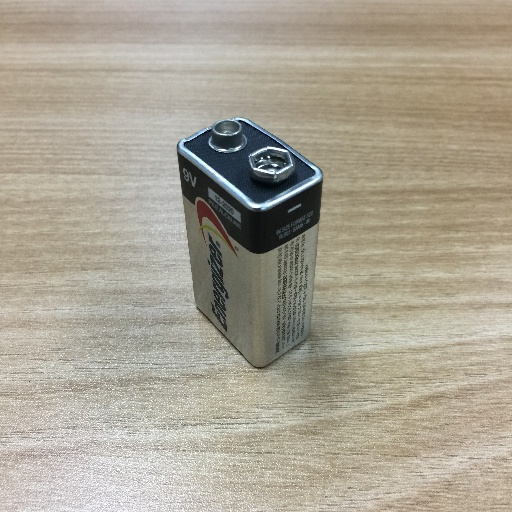Battery_3: (172, 110, 332, 376)
